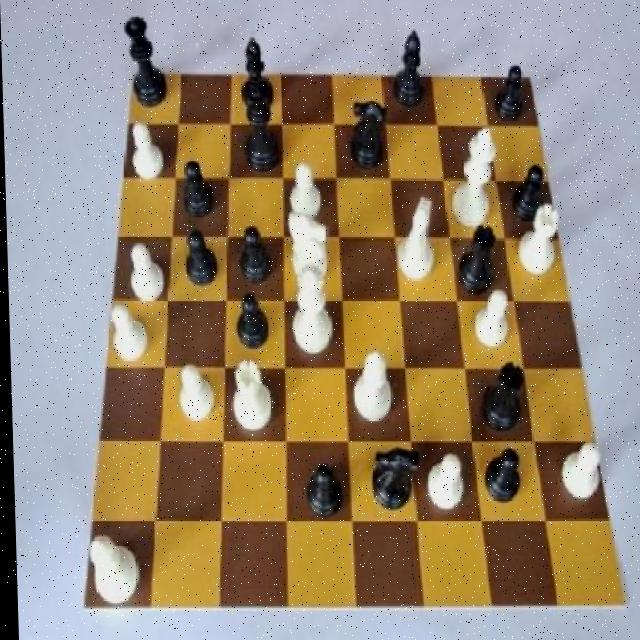bishop: (387, 25, 432, 112), (232, 32, 278, 117)
black-bishop: (235, 71, 283, 173)
black-king: (339, 89, 393, 180), (366, 440, 419, 522)
black-knight: (300, 451, 351, 527), (476, 438, 524, 514), (175, 224, 225, 294), (225, 290, 276, 356), (173, 155, 219, 228), (506, 160, 550, 235), (483, 59, 532, 126), (232, 217, 276, 287)
black-pawn: (119, 14, 172, 117)
black-queen: (446, 218, 504, 302), (471, 355, 529, 437)
black-rook: (80, 530, 140, 612), (345, 349, 395, 430)
white-bishop: (444, 119, 502, 236)
white-king: (393, 194, 441, 293), (282, 203, 334, 292)
white-knight: (415, 443, 464, 518), (554, 435, 604, 508), (102, 303, 153, 372), (279, 158, 325, 232), (467, 288, 513, 360), (168, 360, 216, 429), (125, 235, 166, 304), (127, 120, 171, 183)
white-pawn: (287, 256, 338, 360)
white-queen: (509, 203, 565, 285), (220, 356, 273, 442)
